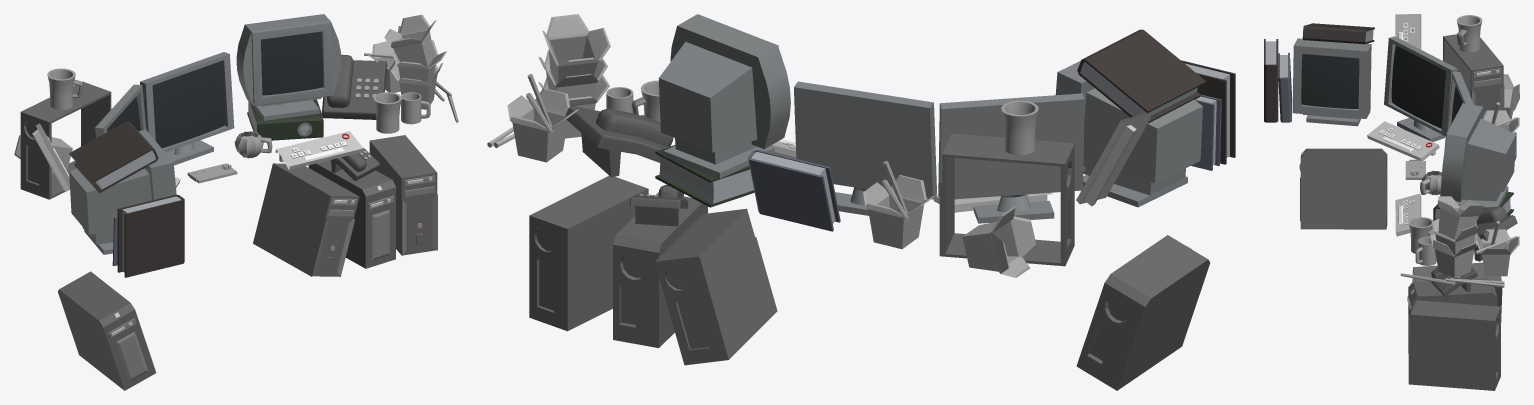
The model's file is Admin_table_v1.fbx.
The picture shows the model from 3 angles, left to right: view 1: azimuth 30°, elevation 25°; view 2: azimuth 150°, elevation 25°; view 3: azimuth 270°, elevation 25°; orthographic projection. The views are drawn at different scales.
Visible parts, largest first — view 1: pc3, unitMid4, pc2, unitMid3, unitMid1, pc, book3, PC_empty1, unitMid2, book4, Cube1, KeyBoardNew1 (+14 smaller); view 2: pc3, unitMid4, pc2, unitMid3, unitMid1, pc1, pc, unitMid2, book4, PC_empty1, book5, Cube1 (+15 smaller); view 3: unitMid1, unitMid3, pc, pc3, pc1, PC_empty1, unitMid2, CH_food1, KeyBoardNew, CH_food4, book4, book3 (+17 smaller).
Part boxes in pixels (bbox=[...]): pc3: bbox=[236, 14, 341, 120]; unitMid4: bbox=[253, 163, 359, 277]; pc2: bbox=[140, 52, 234, 165]; unitMid3: bbox=[58, 271, 156, 390]; unitMid1: bbox=[369, 135, 437, 255]; pc: bbox=[69, 129, 176, 254]; book3: bbox=[117, 194, 184, 277]; PC_empty1: bbox=[20, 81, 111, 199]; unitMid2: bbox=[308, 160, 395, 268]; book4: bbox=[69, 121, 158, 192]; Cube1: bbox=[322, 54, 387, 119]; KeyBoardNew1: bbox=[275, 131, 363, 169]; pc3: bbox=[658, 14, 790, 178]; unitMid4: bbox=[655, 208, 777, 365]; pc2: bbox=[794, 81, 936, 215]; unitMid3: bbox=[1076, 235, 1210, 390]; unitMid1: bbox=[529, 175, 648, 331]; pc1: bbox=[938, 93, 1084, 223]; pc: bbox=[1055, 60, 1202, 207]; unitMid2: bbox=[613, 192, 707, 347]; book4: bbox=[1077, 29, 1206, 123]; PC_empty1: bbox=[939, 133, 1074, 266]; book5: bbox=[748, 149, 840, 231]; Cube1: bbox=[565, 106, 673, 177]; unitMid1: bbox=[1408, 300, 1500, 390]; unitMid3: bbox=[1299, 148, 1387, 229]; pc: bbox=[1292, 38, 1371, 126]; pc3: bbox=[1440, 103, 1516, 208]; pc1: bbox=[1384, 36, 1457, 141]; PC_empty1: bbox=[1443, 34, 1504, 115]; unitMid2: bbox=[1407, 278, 1497, 353]; CH_food1: bbox=[1474, 221, 1519, 276]; KeyBoardNew: bbox=[1367, 121, 1439, 160]; CH_food4: bbox=[1437, 196, 1483, 239]; book4: bbox=[1302, 23, 1374, 44]; book3: bbox=[1264, 39, 1278, 122].
Bounding box in the file's own units: 270 × 140 × 149.
